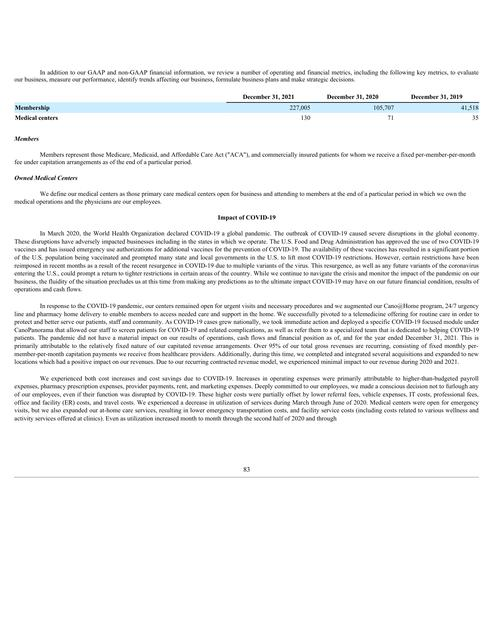box: (13, 92, 482, 145)
